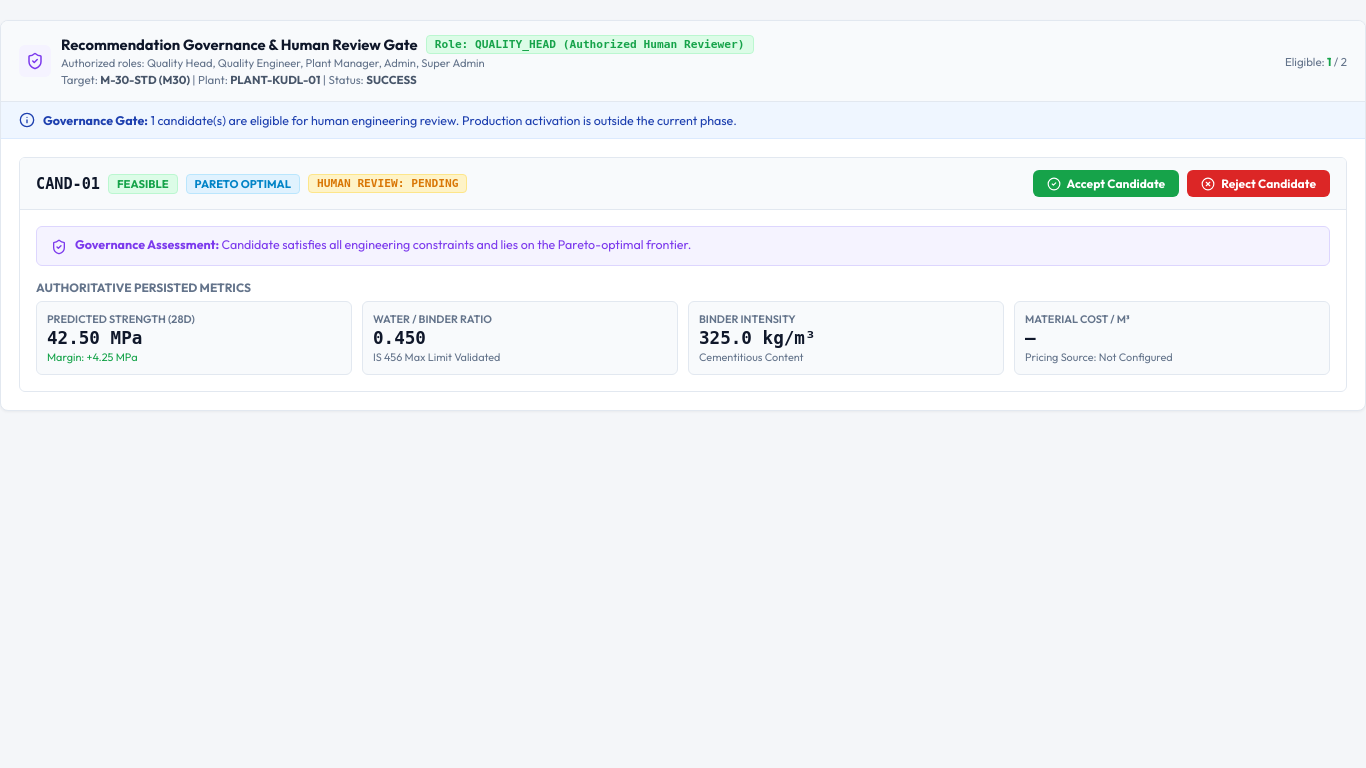
Test: RecommendationGovernanceGate Component (Phase 5E) › records human review decision when authorized user submits acceptance modal
The image size is (1366, 768).
Later steps or results of the test are not shown.
Click the button "Accept Candidate" at (1106, 184), box [1032, 170, 1179, 197]
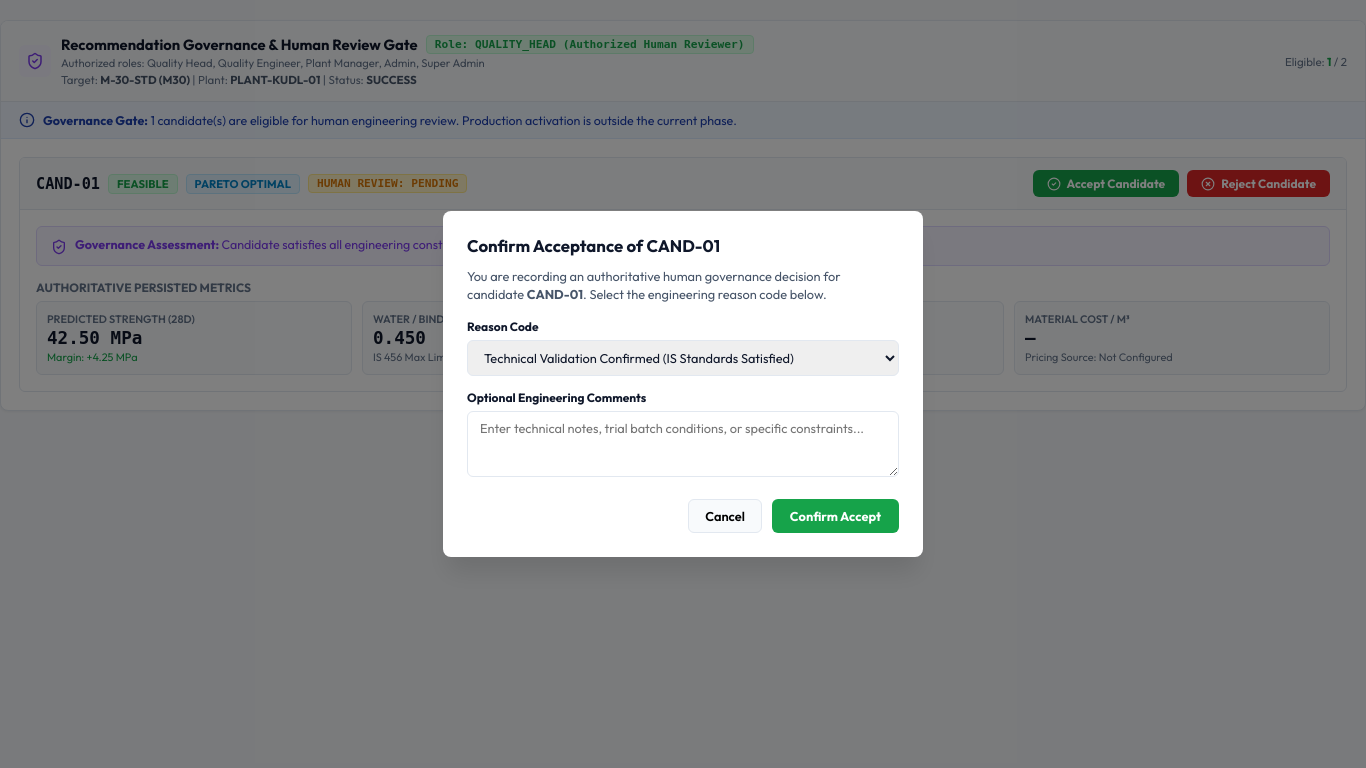
Expected: the heading "Confirm Acceptance of CAND-01" is shown, [467, 235, 720, 256]
